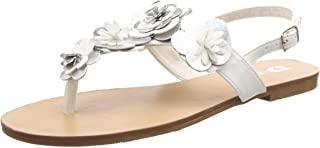shoes: (1, 1, 319, 145)
